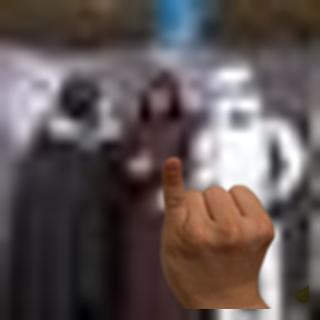FINE: (153, 152, 279, 307)
